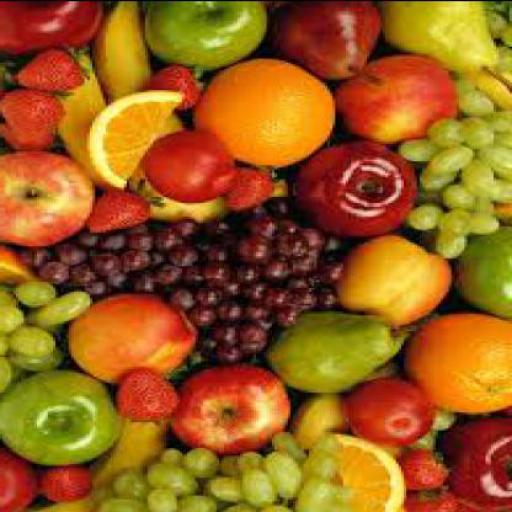biodegradable: (98, 2, 292, 223), (61, 48, 290, 224), (12, 411, 178, 511), (201, 59, 341, 170), (267, 310, 425, 395), (2, 370, 127, 466), (383, 1, 511, 94), (295, 142, 420, 237), (71, 297, 203, 384), (336, 56, 462, 146), (341, 237, 457, 328), (408, 314, 510, 416), (89, 89, 190, 192), (177, 368, 293, 457), (274, 2, 388, 87), (145, 2, 272, 69), (293, 390, 404, 464), (150, 130, 246, 202), (446, 411, 510, 511), (343, 382, 436, 449), (335, 433, 410, 511), (2, 2, 108, 56), (462, 230, 512, 320), (92, 182, 169, 236), (5, 88, 74, 142), (18, 46, 98, 92), (118, 372, 182, 427), (1, 438, 43, 511), (148, 67, 203, 113), (227, 168, 280, 214), (32, 292, 96, 328), (404, 450, 456, 492), (2, 121, 64, 156), (45, 464, 98, 502), (269, 453, 306, 502), (2, 245, 37, 294), (8, 328, 61, 358), (475, 66, 511, 110), (246, 466, 282, 510), (151, 466, 200, 498), (13, 346, 68, 374), (408, 486, 468, 511), (462, 158, 496, 198), (208, 474, 250, 506), (462, 116, 499, 152), (274, 431, 312, 465), (431, 144, 475, 172), (187, 447, 222, 482), (432, 116, 470, 148), (420, 168, 462, 196), (401, 136, 441, 164), (300, 478, 335, 510), (480, 145, 511, 181), (460, 92, 502, 117), (18, 280, 58, 306), (306, 451, 340, 481), (116, 472, 151, 500), (319, 255, 349, 287), (414, 206, 449, 233), (238, 237, 274, 263), (248, 303, 280, 332), (441, 209, 475, 235), (436, 235, 470, 260), (172, 217, 206, 242), (92, 253, 124, 279), (242, 328, 270, 356), (295, 253, 325, 279), (55, 245, 90, 267), (176, 494, 224, 510), (171, 247, 203, 271), (211, 322, 243, 346), (98, 498, 156, 511), (124, 249, 153, 275), (174, 288, 204, 313), (217, 344, 251, 366), (448, 184, 476, 210), (3, 59, 27, 89), (240, 452, 272, 474), (40, 261, 72, 283), (235, 206, 272, 225), (487, 11, 511, 39), (2, 356, 21, 391), (414, 431, 444, 453), (332, 486, 358, 511), (280, 235, 306, 260), (150, 492, 184, 511), (208, 225, 240, 245), (156, 232, 185, 254), (3, 312, 27, 337), (472, 215, 502, 235), (208, 261, 238, 281), (216, 279, 243, 301), (494, 48, 510, 85), (285, 277, 314, 297), (246, 220, 280, 237), (306, 229, 330, 253), (184, 269, 212, 289), (2, 286, 24, 311), (472, 194, 497, 216), (127, 277, 159, 294), (158, 267, 185, 287), (218, 303, 246, 322), (266, 286, 290, 308), (417, 188, 446, 206), (206, 243, 232, 263), (21, 250, 53, 266), (435, 413, 460, 433), (198, 289, 224, 308), (132, 233, 156, 253), (266, 261, 290, 281), (496, 171, 511, 202), (296, 290, 316, 312), (79, 233, 106, 249), (454, 76, 478, 93), (224, 456, 240, 481), (163, 450, 188, 466), (279, 222, 304, 238), (240, 266, 265, 282), (279, 310, 304, 326), (195, 310, 220, 326), (322, 291, 343, 310), (248, 281, 269, 300), (219, 502, 262, 511), (322, 435, 340, 455), (106, 234, 127, 251), (92, 280, 114, 296), (110, 272, 132, 288), (77, 269, 98, 285), (496, 113, 511, 134), (496, 132, 511, 152), (132, 225, 154, 238), (3, 334, 13, 360), (502, 203, 512, 228), (261, 506, 294, 511), (503, 30, 511, 50), (156, 255, 166, 267)
